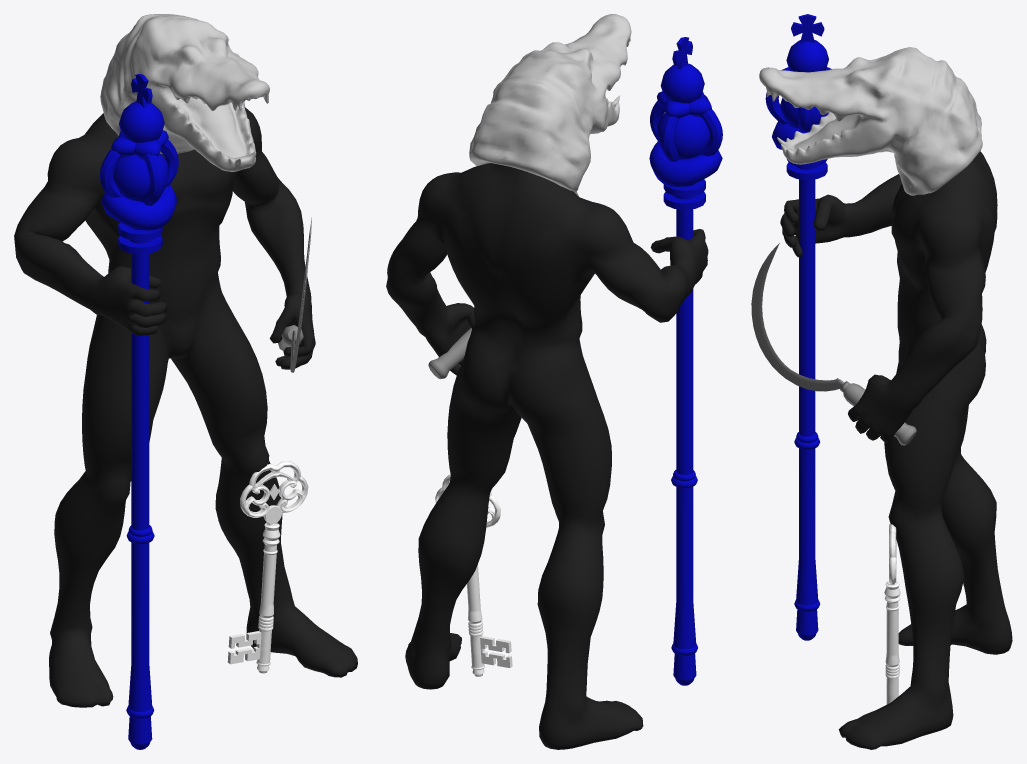
File: coco1.fbx
3 views of the same model, side by side, from view 1: azimuth 30°, elevation 25°; view 2: azimuth 150°, elevation 25°; view 3: azimuth 270°, elevation 25° (orthographic). The views are drawn at different scales.
Visible parts, largest first — view 1: estatua, Cylinder001, low_uvs_coco, key_low.001, projectmesh_001; view 2: estatua, low_uvs_coco, Cylinder001, key_low.001, projectmesh_001; view 3: estatua, low_uvs_coco, Cylinder001, projectmesh_001, key_low.001.
Part boxes in pixels (x1,y1,x2,y2): estatua: (14, 107, 357, 707); Cylinder001: (100, 74, 178, 749); low_uvs_coco: (100, 14, 269, 171); key_low.001: (227, 461, 308, 673); projectmesh_001: (278, 217, 311, 372); estatua: (386, 163, 708, 749); low_uvs_coco: (469, 14, 631, 192); Cylinder001: (649, 37, 722, 685); key_low.001: (435, 474, 512, 676); projectmesh_001: (428, 191, 578, 379); estatua: (780, 151, 1012, 749); low_uvs_coco: (759, 47, 982, 195); Cylinder001: (765, 14, 831, 640); projectmesh_001: (751, 243, 916, 445); key_low.001: (884, 524, 900, 704).
Size of the model in its own units: 81.84 by 170 by 64.4.
